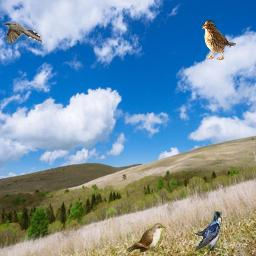Cuckoo: (126, 223, 166, 252), (2, 22, 42, 43)
Sparrow: (202, 20, 236, 60)
Swallow: (195, 211, 222, 251)
